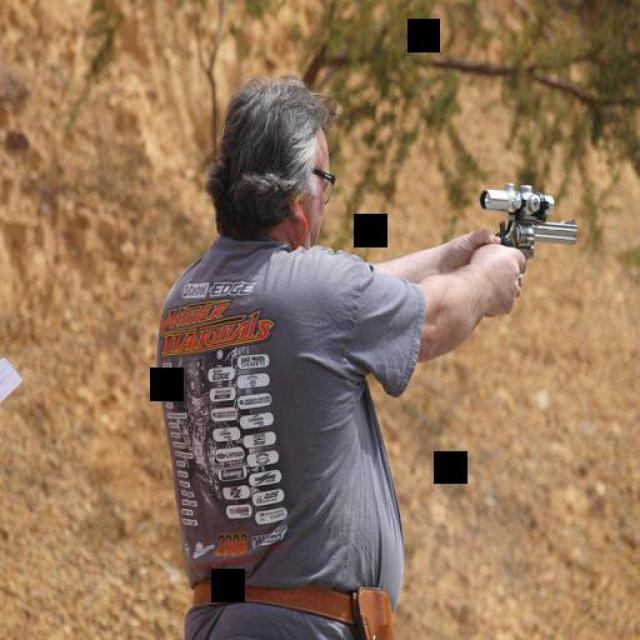gun: (475, 181, 577, 260)
